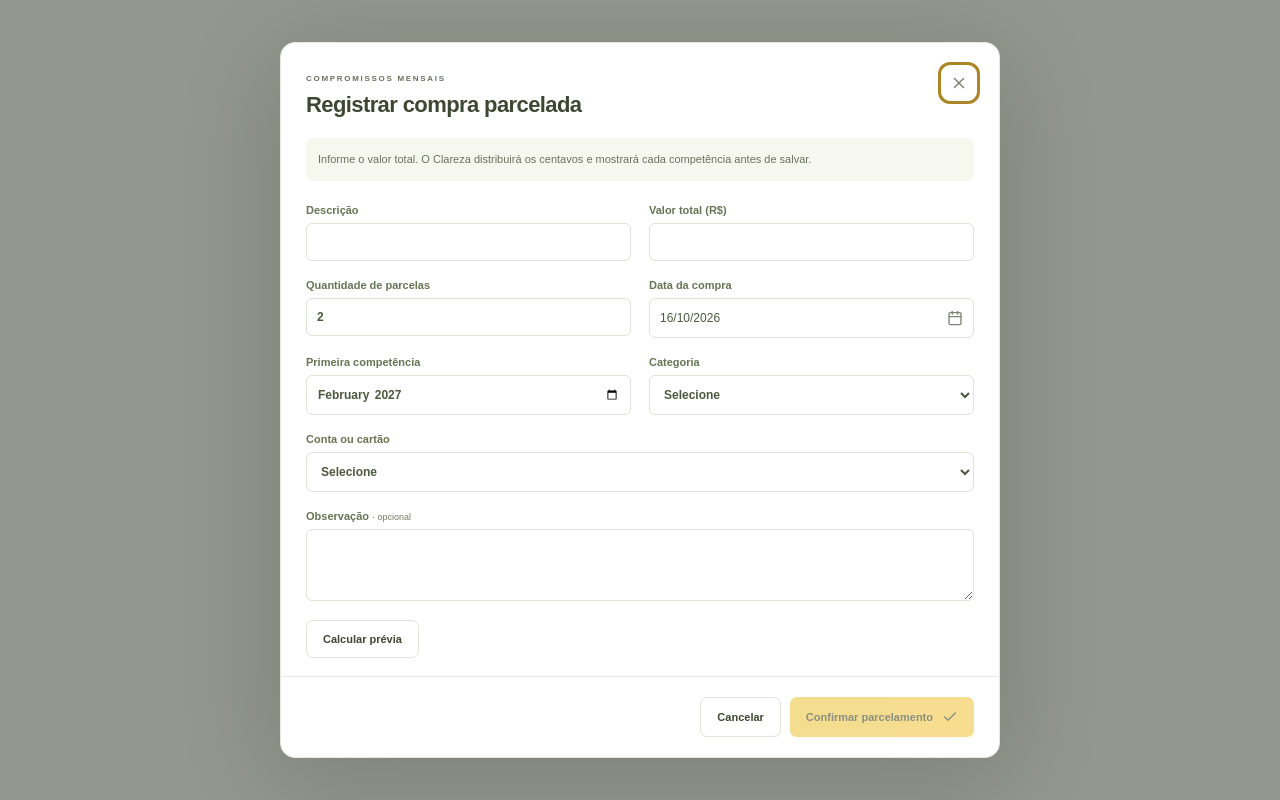
Competência pelo fechamento do cartão - Interface (Section 7) › erros de fatura paga na prévia exibem alerta sem descartar os demais campos
Type "Geladeira" into the field labelled "Descrição" at {"x": 468, "y": 242}, box [306,223,631,261]
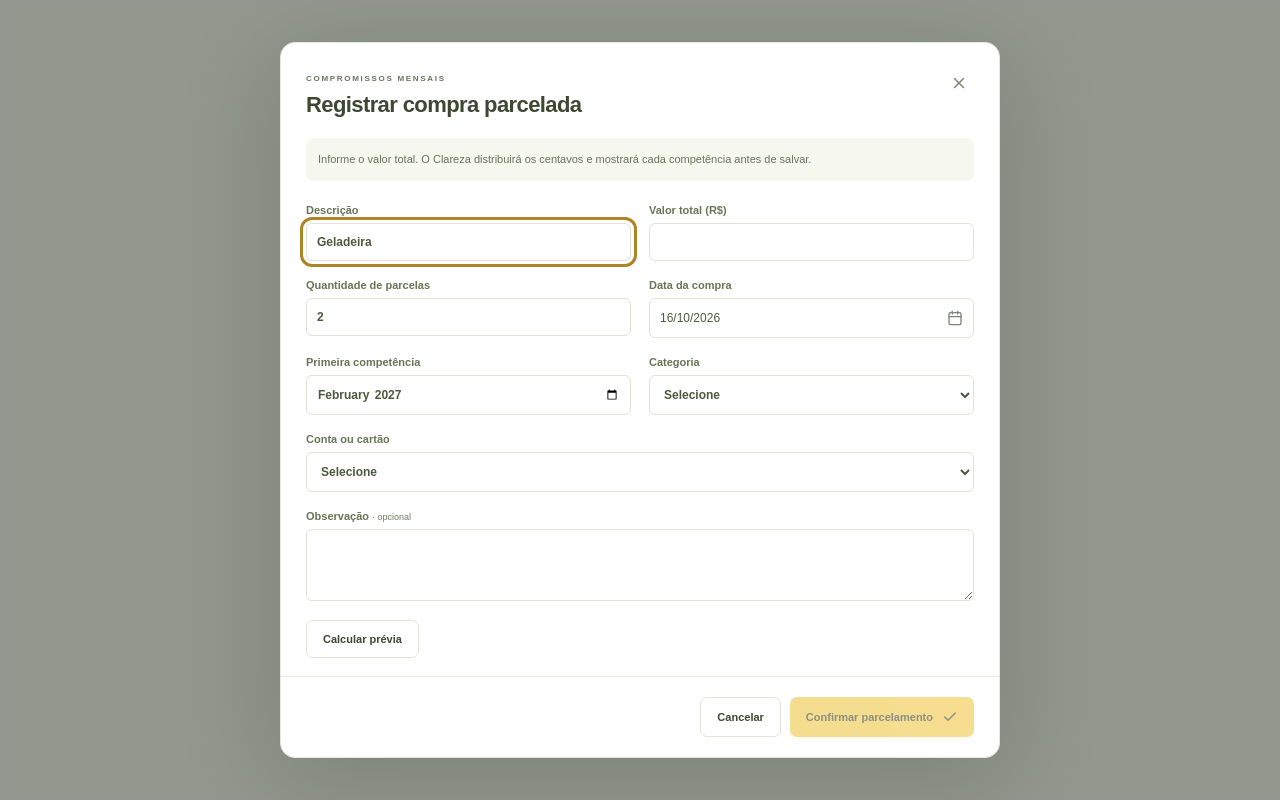
Type "300" into the number field labelled "Valor total (R$)" at {"x": 812, "y": 242}, box [649,223,974,261]
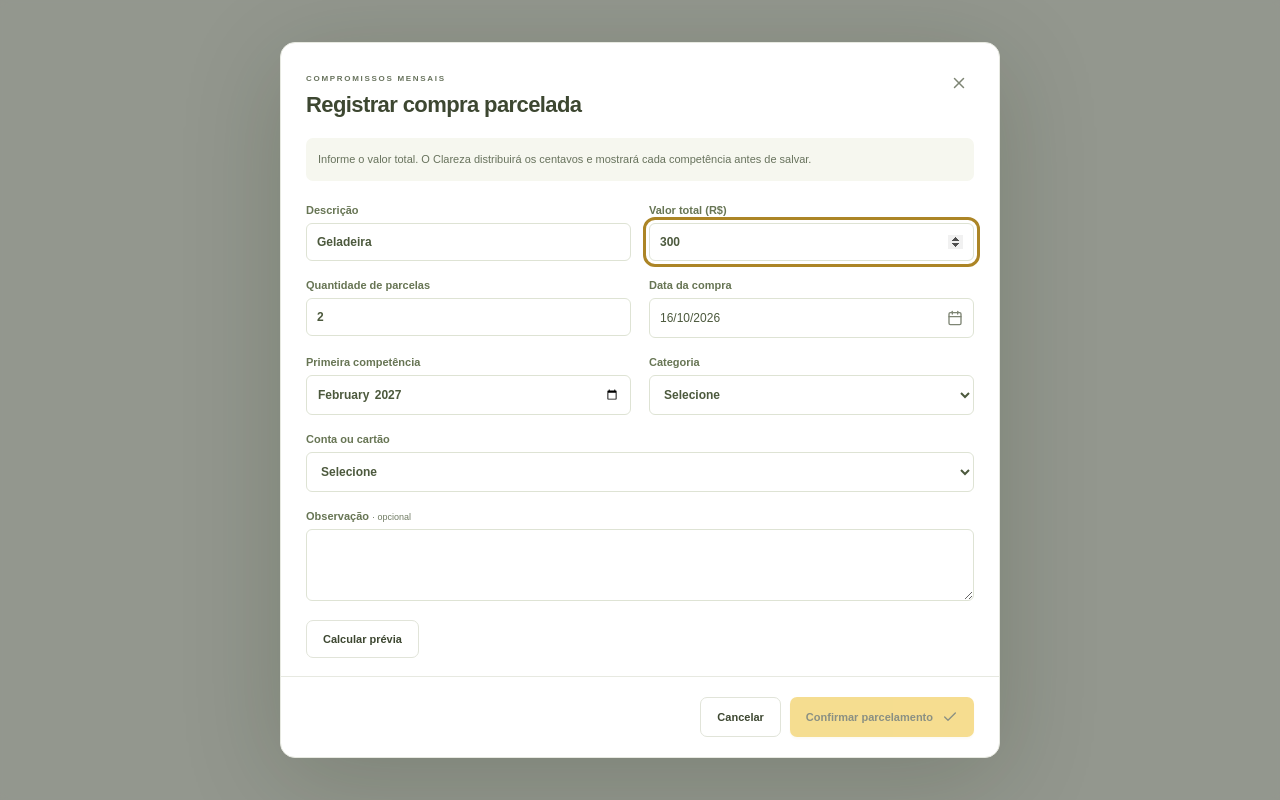
Select "Cartão · Cartão A" in the dropdown labelled "Conta ou cartão" at {"x": 640, "y": 472}, box [306,452,974,492]
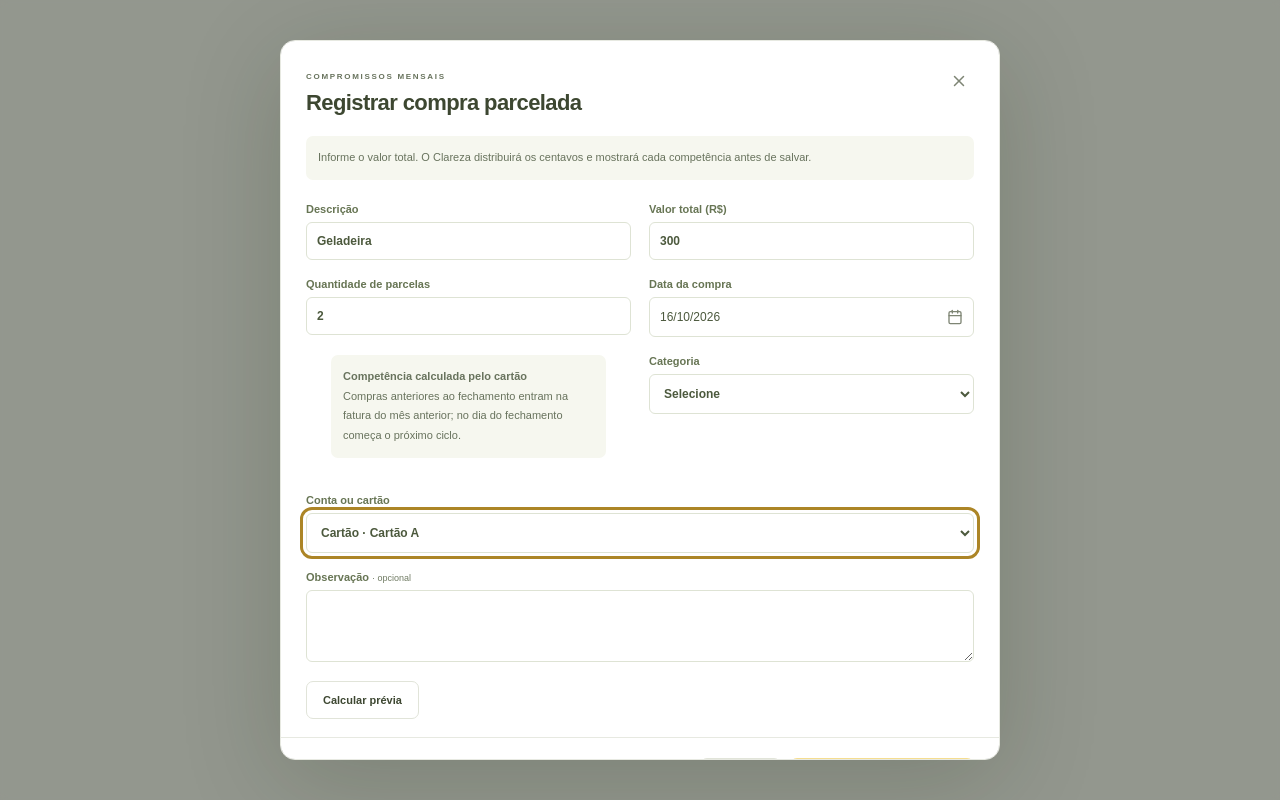
Click the button "Calcular prévia" at {"x": 362, "y": 700}, box [306,681,419,719]
(page scrolled)
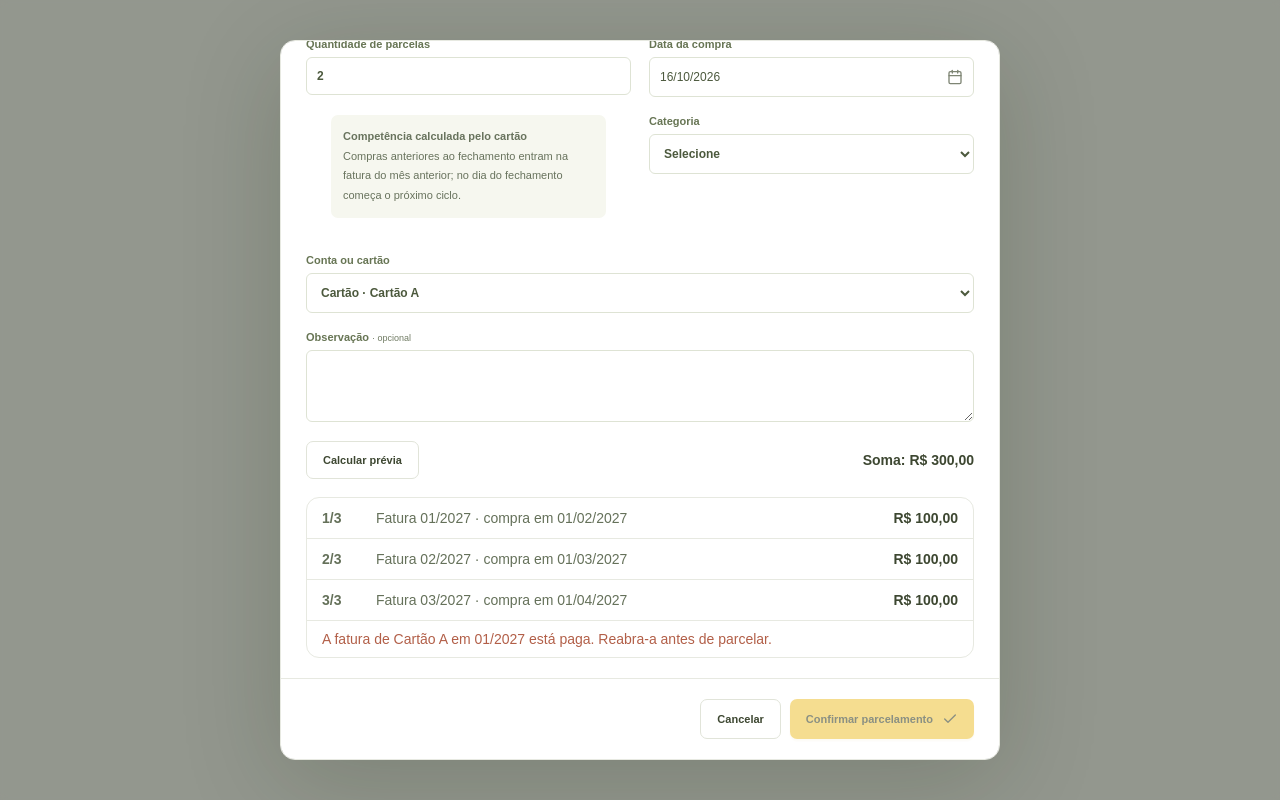
Expected: the button "Confirmar parcelamento" is disabled, [790,699,974,739]
Result: the text "A fatura de Cartão A em 01/2027 está paga" is shown at [322,631,772,647]
